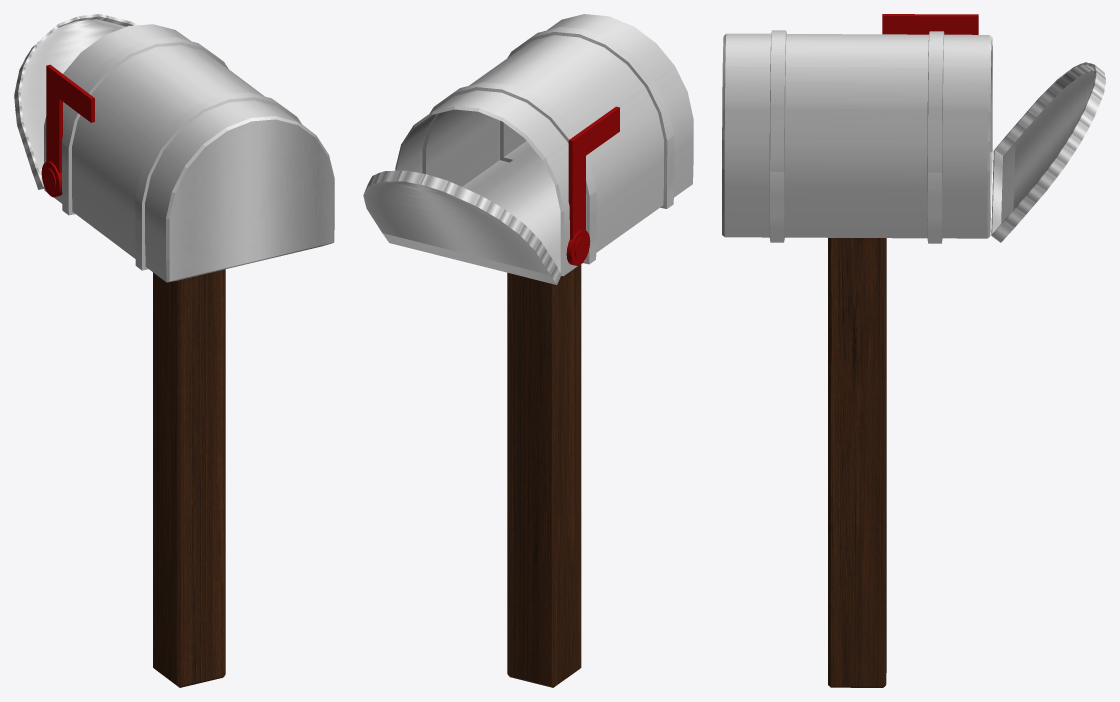
Rendered from mailbox.obj.
3 views of the same model, side by side, from view 1: azimuth 30°, elevation 25°; view 2: azimuth 150°, elevation 25°; view 3: azimuth 270°, elevation 25° (orthographic). The views are drawn at different scales.
Parts seen in each view (by area): view 1: mailbox:MailboxStand group; view 2: mailbox:MailboxStand group; view 3: mailbox:MailboxStand group.
Part boxes in pixels (bbox=[...]): mailbox:MailboxStand group: bbox=[14, 14, 334, 687]; mailbox:MailboxStand group: bbox=[363, 14, 693, 687]; mailbox:MailboxStand group: bbox=[722, 14, 1105, 687].
Size of the model in its own units: 2.4 by 7.88 by 4.31.
3 materials, 3 textured.
